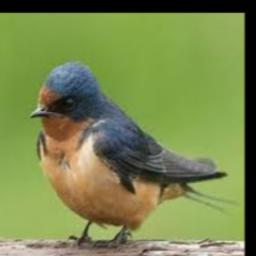Swallow: (30, 61, 237, 242)
